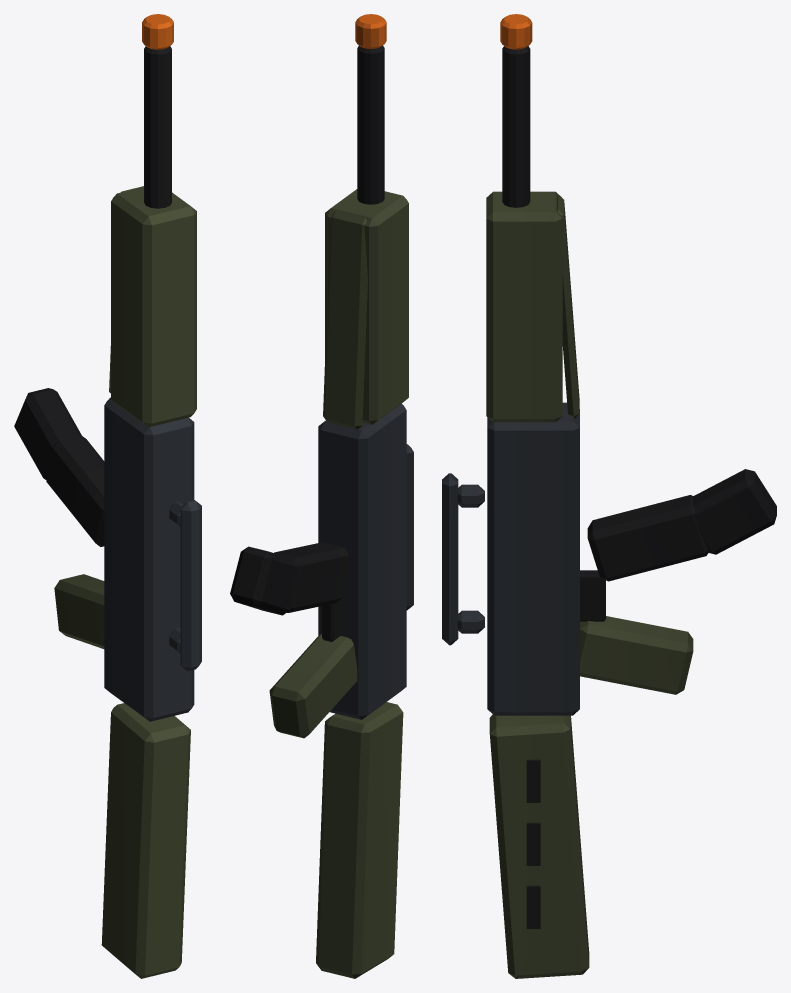
The model's file is trident.glb.
3 renders of one model, left to right at view 1: azimuth 30°, elevation 25°; view 2: azimuth 150°, elevation 25°; view 3: azimuth 270°, elevation 25°, orthographic. The views are drawn at different scales.
Visible parts, largest first — view 1: trident; view 2: trident; view 3: trident.
Boxes of the visible parts, box(x1,y1,x2,y2) form: trident: box(14, 14, 201, 978); trident: box(230, 14, 413, 978); trident: box(442, 14, 776, 978).
Size of the model in its own units: 0.054 by 0.9057 by 0.2888.
